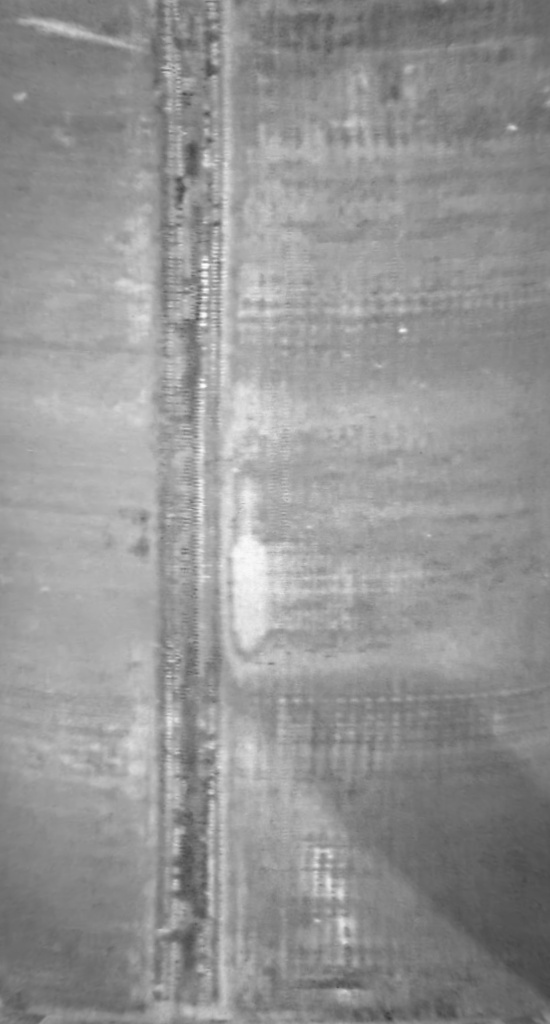splice: (142, 1, 238, 1021)
